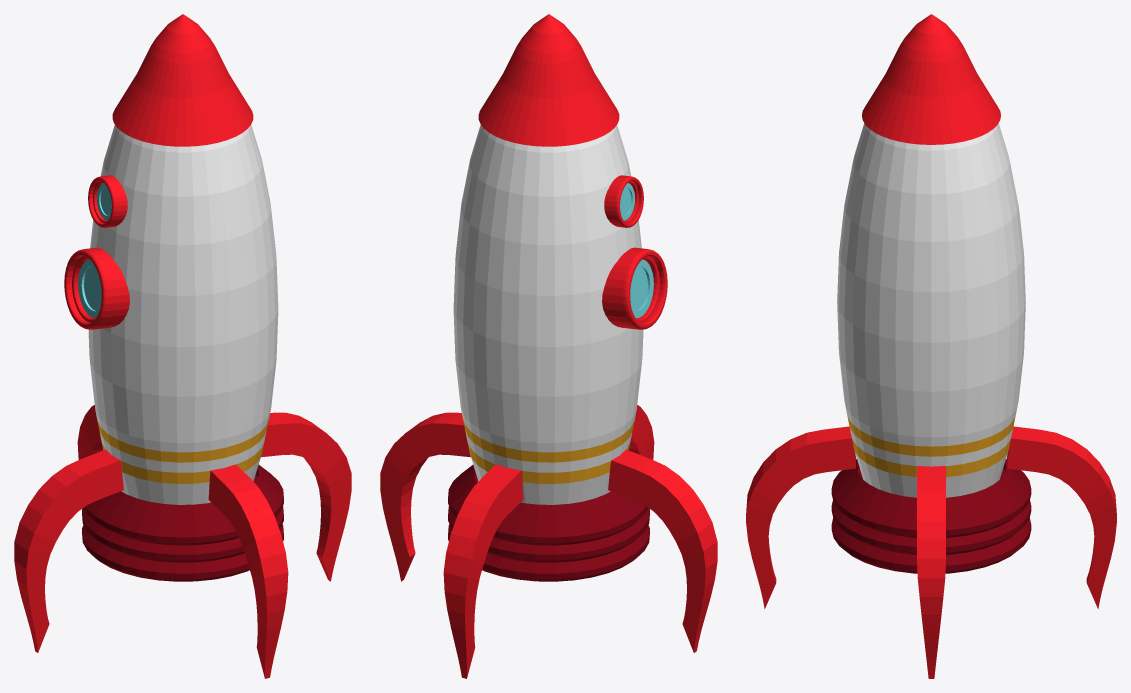
File: Rocket.fbx
3 views of the same model, side by side, from view 1: azimuth 30°, elevation 25°; view 2: azimuth 150°, elevation 25°; view 3: azimuth 270°, elevation 25° (orthographic).
Visible parts, largest first — view 1: Rocket; view 2: Rocket; view 3: Rocket.
Part boxes in pixels (x1=…): Rocket: x1=14, y1=14, x2=351, y2=678; Rocket: x1=380, y1=14, x2=717, y2=678; Rocket: x1=746, y1=14, x2=1116, y2=678.
Size of what is drawn, in the model's own units: 393 by 695 by 393.
